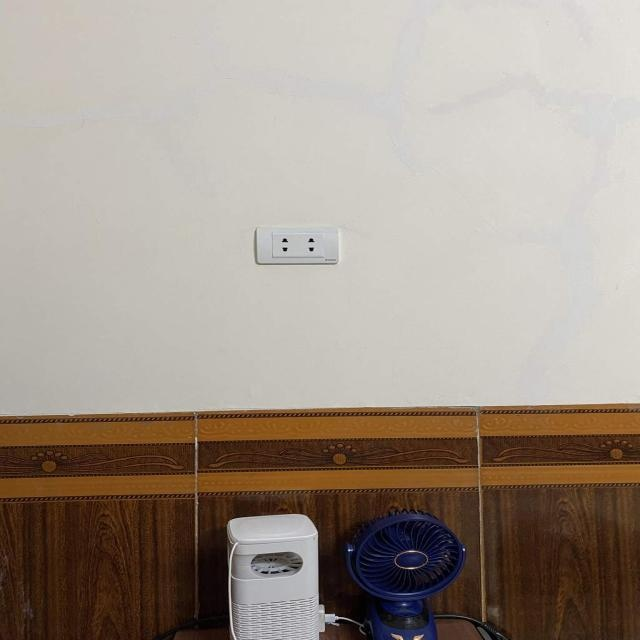outlet: (254, 225, 339, 264)
